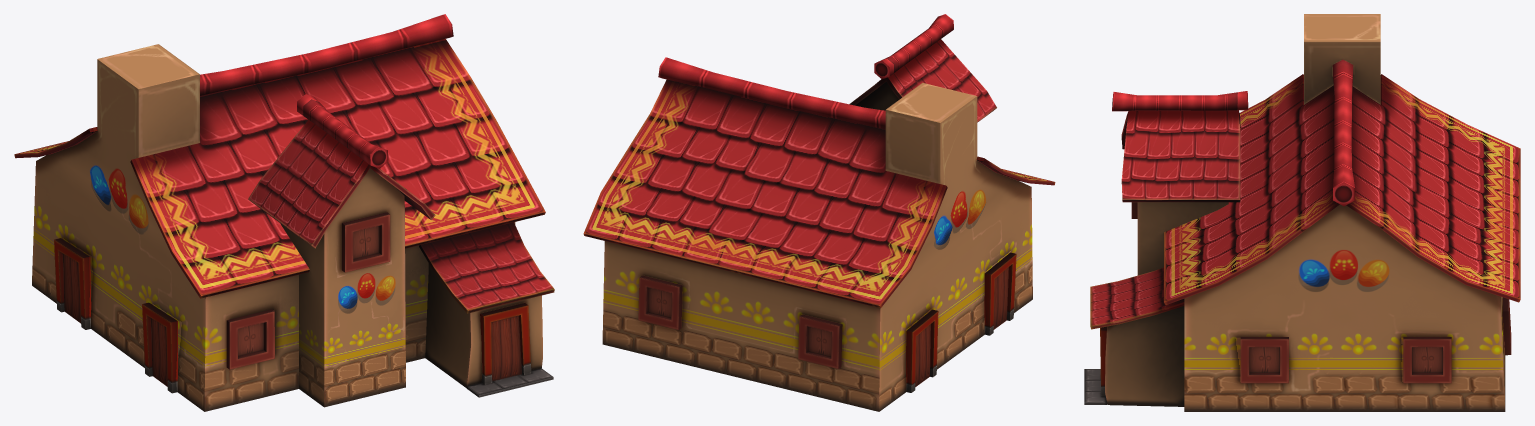
Rendered from House_07.FBX.
The picture shows the model from 3 angles, left to right: view 1: azimuth 30°, elevation 25°; view 2: azimuth 150°, elevation 25°; view 3: azimuth 270°, elevation 25°; orthographic projection. The views are drawn at different scales.
Visible parts, largest first — view 1: House_07; view 2: House_07; view 3: House_07.
Boxes of the visible parts, <box> form: House_07: <box>14,14,554,411</box>; House_07: <box>583,14,1055,411</box>; House_07: <box>1084,14,1520,411</box>.
Bounding box in the file's own units: 2.04 × 1.54 × 2.37.
